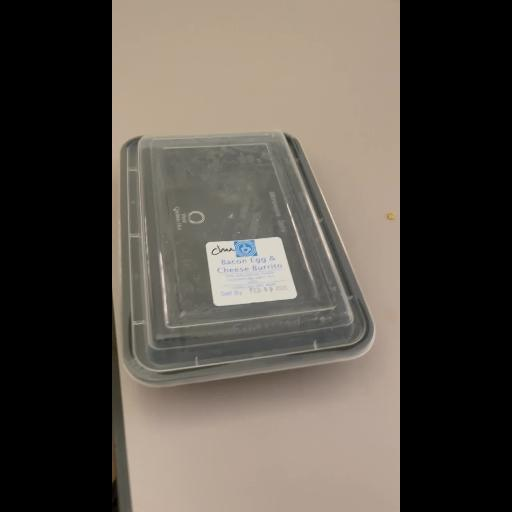rigid_plastic_container: (112, 107, 384, 403)
